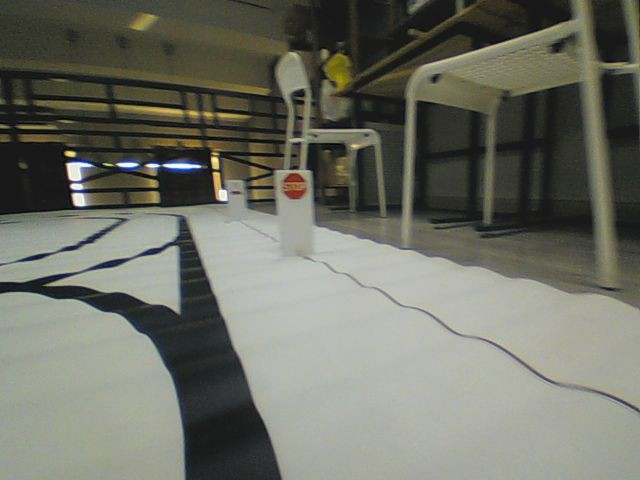Stop: (281, 172, 307, 199)
